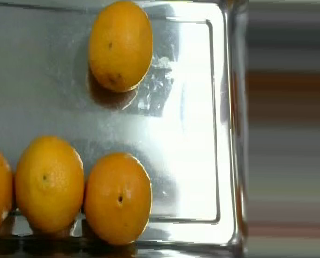Orange: (15, 133, 85, 235), (83, 153, 153, 246), (86, 1, 154, 94)
